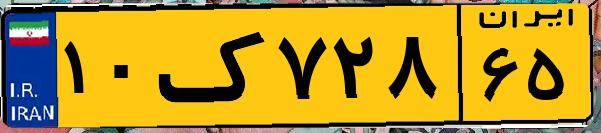0: (110, 28, 158, 98)
1: (57, 26, 110, 100)
2: (330, 28, 385, 110)
5: (525, 38, 570, 115)
6: (475, 38, 525, 113)
7: (270, 28, 330, 110)
8: (385, 28, 445, 110)
ک: (158, 12, 270, 120)
